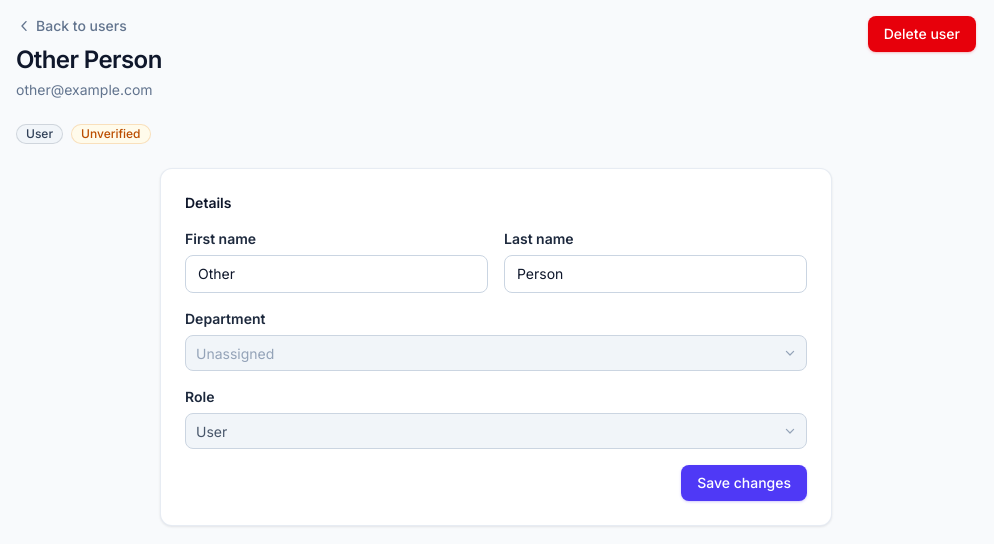
Test: UserDetailsPage › lets a user save their own name
Expected: the heading "Other Person" is shown, [16, 44, 162, 76]
Replace the text in the field labelled "First name" with "Updated". click: (336, 274)
box: [185, 255, 488, 293]
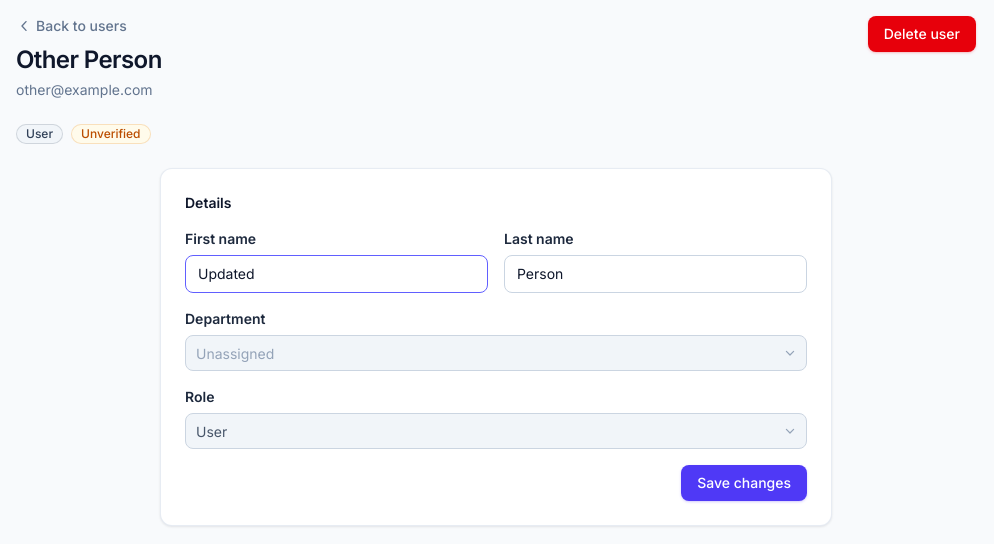
Click the button "Save changes". click: (744, 483)
box: [681, 465, 807, 501]
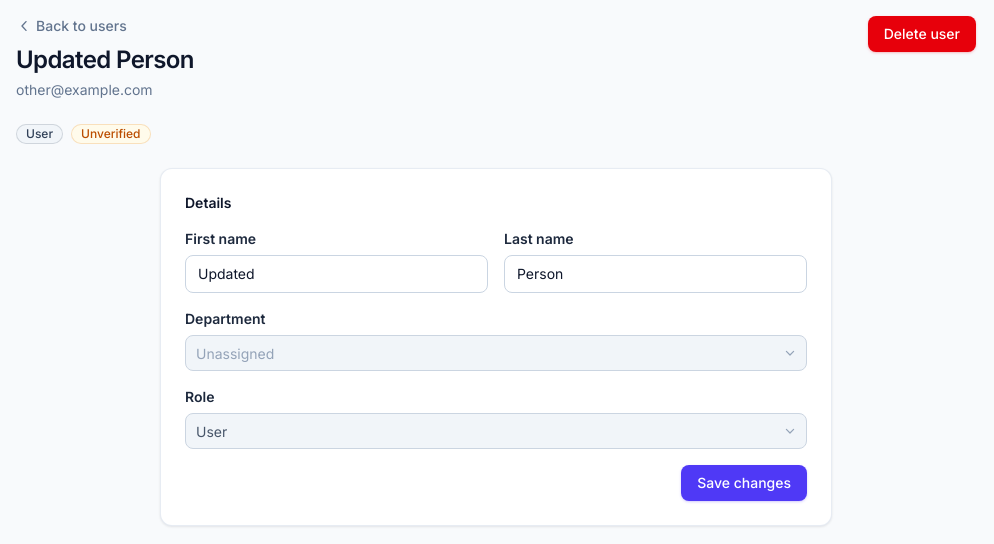
Expected: the heading "Updated Person" is shown, [16, 44, 194, 76]
